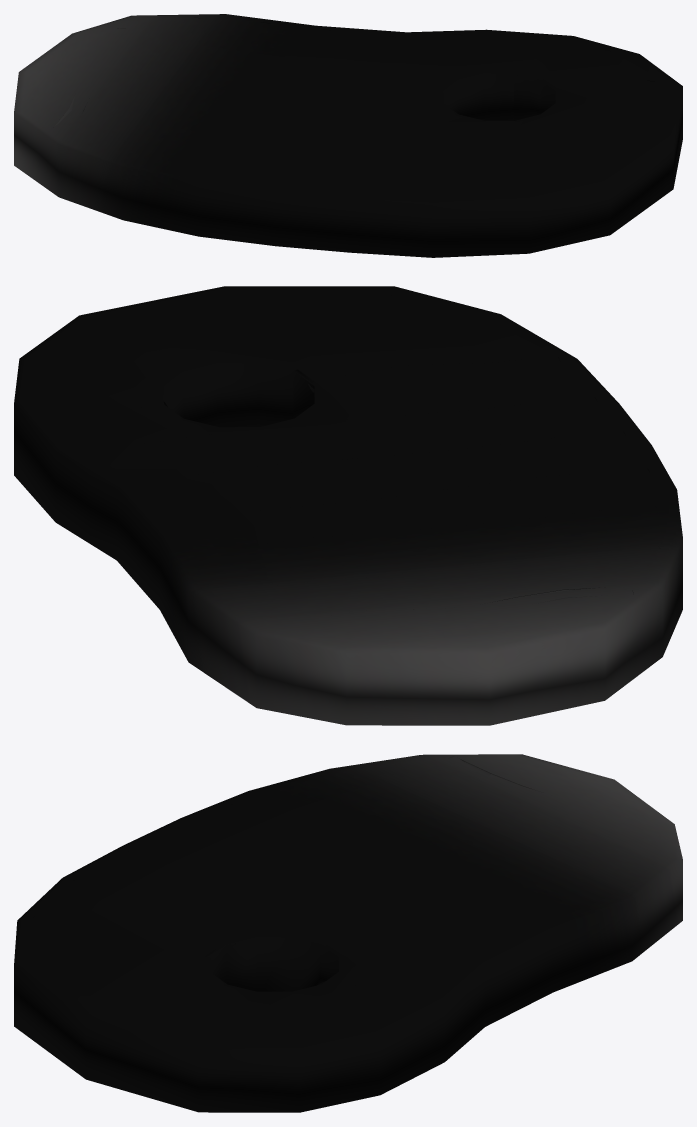
Rendered from SteakBurnt.glb.
3 renders of one model, top to bottom at view 1: azimuth 30°, elevation 25°; view 2: azimuth 150°, elevation 25°; view 3: azimuth 270°, elevation 25°, orthographic. The views are drawn at different scales.
Parts seen in each view (by area): view 1: SteakBurnt; view 2: SteakBurnt; view 3: SteakBurnt.
Part boxes in pixels (x1=…): SteakBurnt: x1=14, y1=14, x2=682, y2=257; SteakBurnt: x1=14, y1=286, x2=682, y2=725; SteakBurnt: x1=14, y1=754, x2=682, y2=1112.
Size of the model in its own units: 0.2857 by 0.0306 by 0.2716.
Materials: 1 (1 with a texture image).
